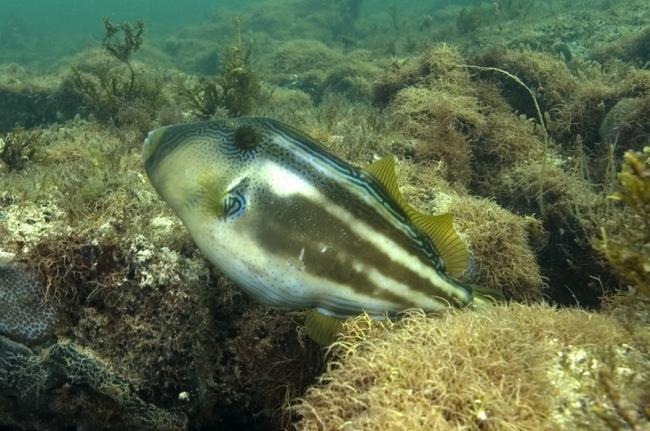fish: (142, 116, 491, 320)
